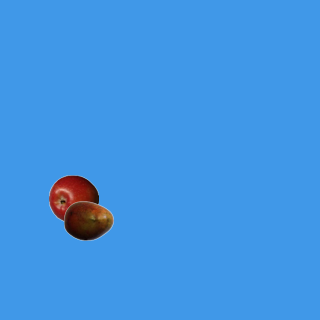Apple Braeburn: (48, 174, 98, 224)
Mango Red: (63, 195, 113, 245)
